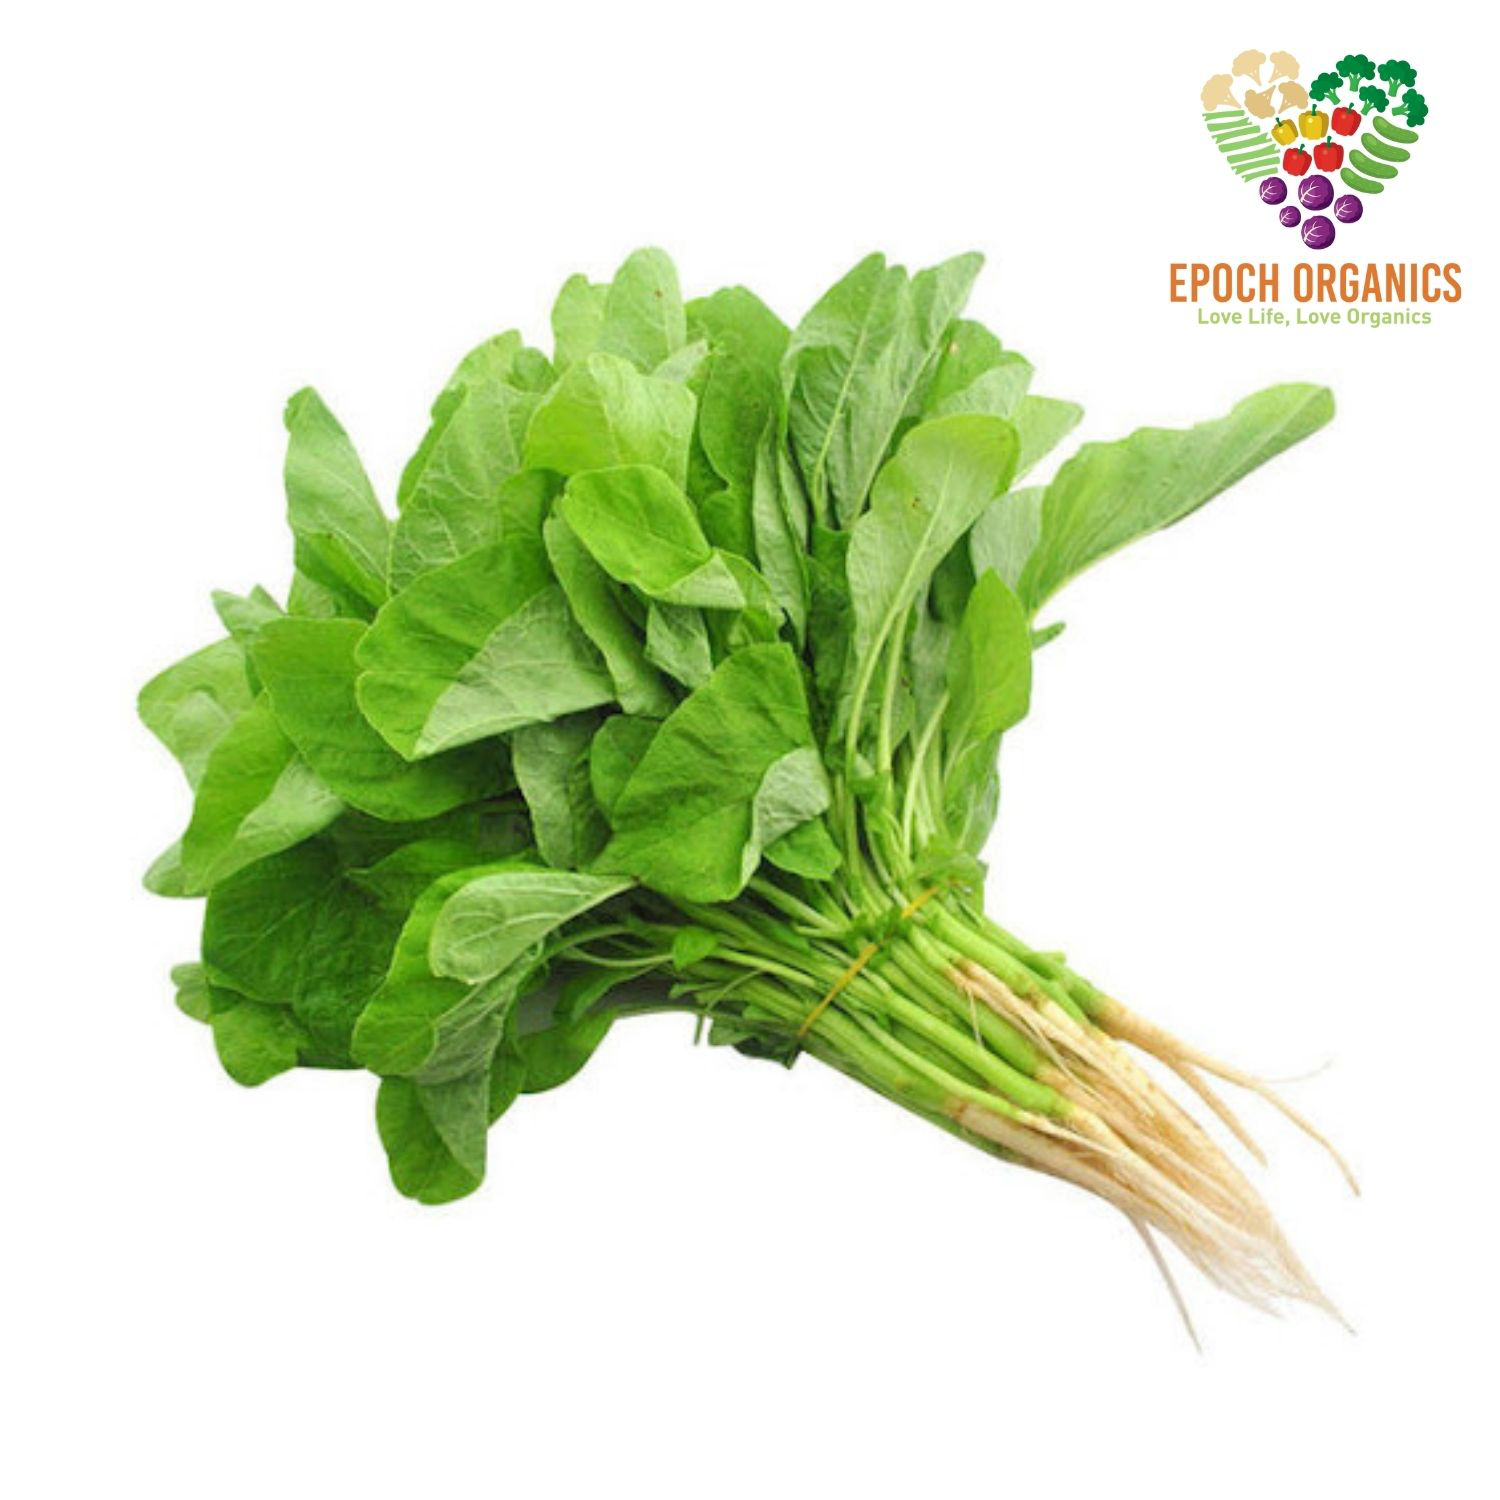Bayam: (63, 324, 1446, 1488)
